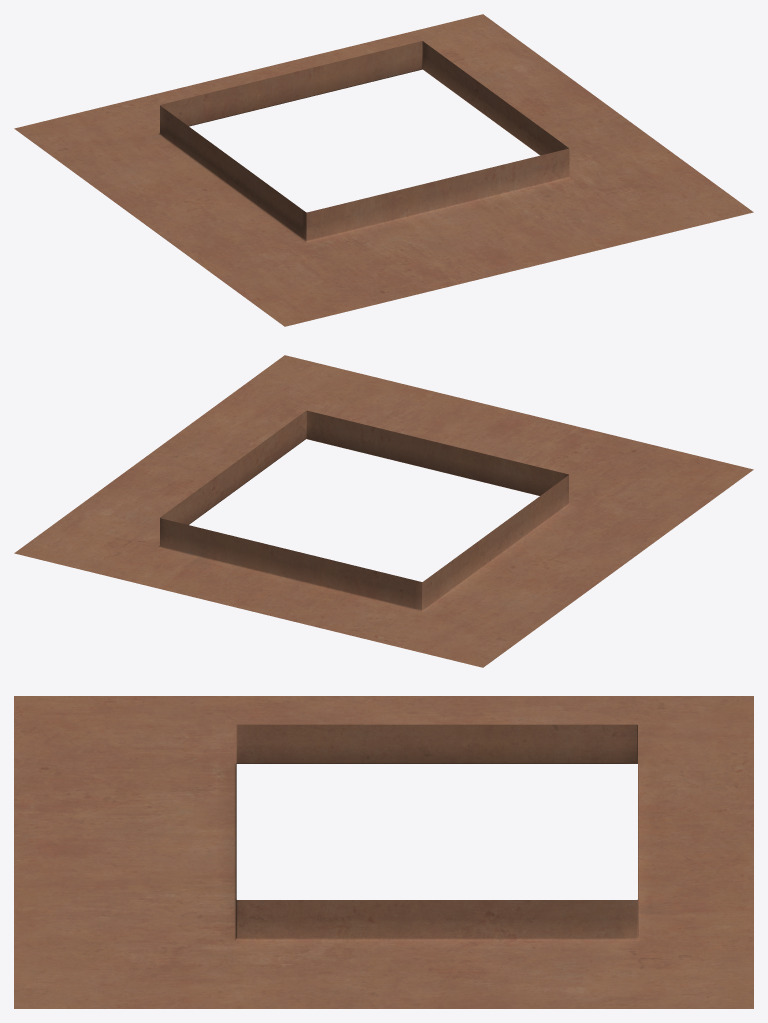
Rendered from wall_window_centered_large_03.gltf.
The picture shows the model from 3 angles, top to bottom: view 1: azimuth 30°, elevation 25°; view 2: azimuth 150°, elevation 25°; view 3: azimuth 270°, elevation 25°; orthographic projection. The views are drawn at different scales.
Visible parts, largest first — view 1: wall_window_centered_large_03; view 2: wall_window_centered_large_03; view 3: wall_window_centered_large_03.
Part boxes in pixels (bbox=[...]): wall_window_centered_large_03: bbox=[14, 14, 753, 326]; wall_window_centered_large_03: bbox=[14, 355, 753, 667]; wall_window_centered_large_03: bbox=[14, 696, 753, 1008].
Bounding box in the file's own units: 3 × 0.18 × 3.
1 material, 1 textured.
